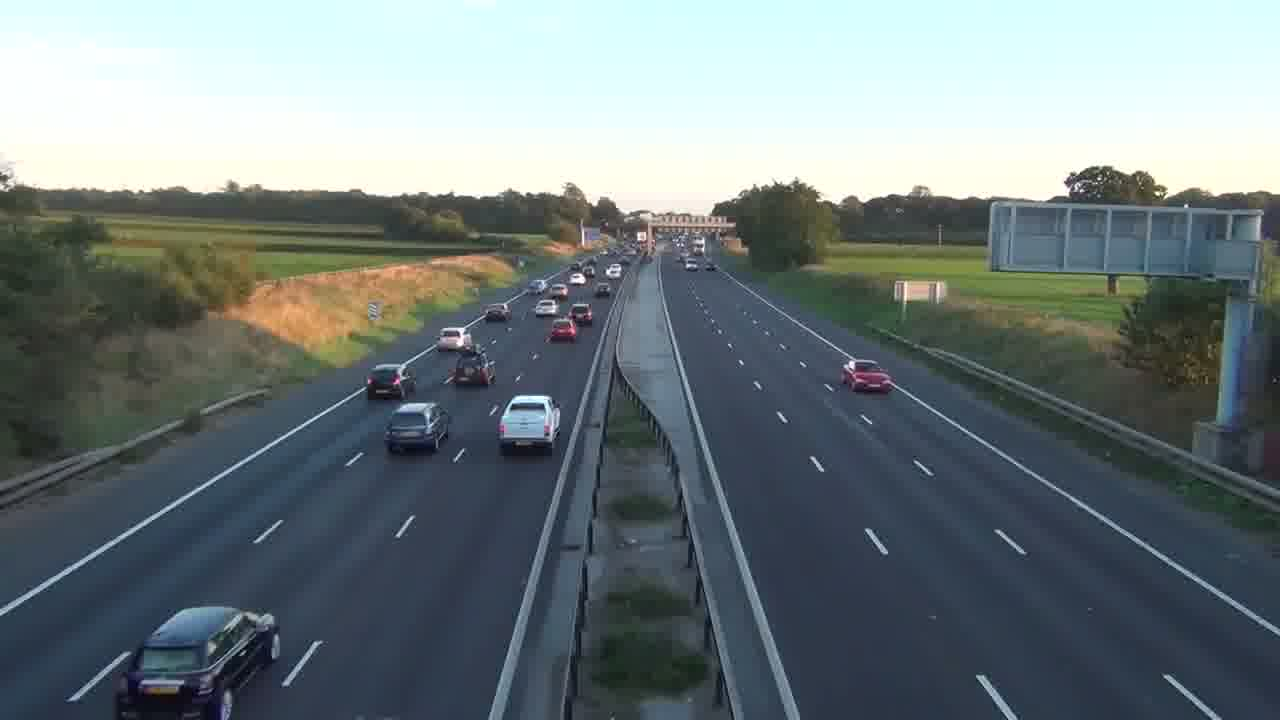car: (383, 400, 451, 454), (840, 358, 895, 394), (367, 365, 404, 400), (438, 326, 471, 352), (547, 318, 577, 343), (570, 302, 594, 327)
truck: (113, 605, 280, 718)
